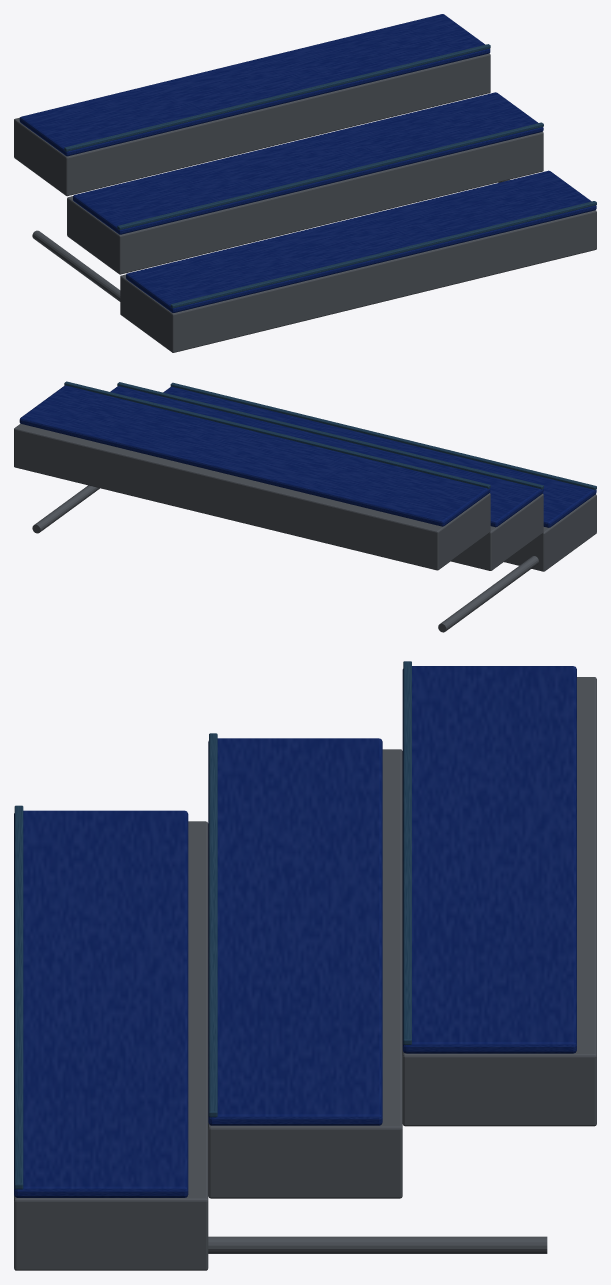
The model's file is gradas.fbx.
The picture shows the model from 3 angles, top to bottom: view 1: azimuth 30°, elevation 25°; view 2: azimuth 150°, elevation 25°; view 3: azimuth 270°, elevation 25°; orthographic projection. The views are drawn at different scales.
Visible parts, largest first — view 1: Gradas_Asiento_Nivel_3, Gradas_Asiento_Nivel_2, Gradas_Asiento_Nivel_1, Gradas_Estructura_Nivel_1, Gradas_Estructura_Nivel_2, Gradas_Estructura_Nivel_3, Gradas_Borde_Nivel_3, Gradas_Borde_Nivel_1, Gradas_Borde_Nivel_2, Gradas_Soporte_Lateral; view 2: Gradas_Estructura_Nivel_3, Gradas_Asiento_Nivel_3, Gradas_Asiento_Nivel_1, Gradas_Asiento_Nivel_2, Gradas_Estructura_Nivel_2, Gradas_Estructura_Nivel_1, Gradas_Borde_Nivel_1, Gradas_Borde_Nivel_2, Gradas_Borde_Nivel_3, Gradas_Soporte_Lateral, Gradas_Soporte_Lateral.001; view 3: Gradas_Asiento_Nivel_2, Gradas_Asiento_Nivel_3, Gradas_Asiento_Nivel_1, Gradas_Estructura_Nivel_2, Gradas_Estructura_Nivel_1, Gradas_Estructura_Nivel_3, Gradas_Soporte_Lateral.001, Gradas_Borde_Nivel_1, Gradas_Borde_Nivel_2, Gradas_Borde_Nivel_3.
Boxes of the visible parts, left/top/right/bottom form: Gradas_Asiento_Nivel_3: left=19, top=14, right=490, bottom=156; Gradas_Asiento_Nivel_2: left=73, top=92, right=543, bottom=234; Gradas_Asiento_Nivel_1: left=126, top=170, right=596, bottom=312; Gradas_Estructura_Nivel_1: left=120, top=210, right=596, bottom=352; Gradas_Estructura_Nivel_2: left=67, top=132, right=543, bottom=274; Gradas_Estructura_Nivel_3: left=14, top=53, right=490, bottom=196; Gradas_Borde_Nivel_3: left=64, top=44, right=490, bottom=151; Gradas_Borde_Nivel_1: left=170, top=201, right=596, bottom=308; Gradas_Borde_Nivel_2: left=117, top=122, right=543, bottom=229; Gradas_Soporte_Lateral: left=32, top=230, right=120, bottom=301; Gradas_Estructura_Nivel_3: left=14, top=423, right=490, bottom=570; Gradas_Asiento_Nivel_3: left=19, top=385, right=490, bottom=526; Gradas_Asiento_Nivel_1: left=163, top=386, right=596, bottom=527; Gradas_Asiento_Nivel_2: left=110, top=386, right=543, bottom=527; Gradas_Estructura_Nivel_2: left=451, top=493, right=543, bottom=570; Gradas_Estructura_Nivel_1: left=504, top=494, right=596, bottom=571; Gradas_Borde_Nivel_1: left=170, top=382, right=596, bottom=490; Gradas_Borde_Nivel_2: left=117, top=382, right=543, bottom=489; Gradas_Borde_Nivel_3: left=64, top=381, right=490, bottom=488; Gradas_Soporte_Lateral: left=438, top=556, right=538, bottom=632; Gradas_Soporte_Lateral.001: left=32, top=485, right=99, bottom=533; Gradas_Asiento_Nivel_2: left=208, top=738, right=382, bottom=1125; Gradas_Asiento_Nivel_3: left=402, top=666, right=576, bottom=1053; Gradas_Asiento_Nivel_1: left=14, top=810, right=188, bottom=1197; Gradas_Estructura_Nivel_2: left=208, top=749, right=402, bottom=1198; Gradas_Estructura_Nivel_1: left=14, top=821, right=208, bottom=1270; Gradas_Estructura_Nivel_3: left=402, top=677, right=596, bottom=1126; Gradas_Soporte_Lateral.001: left=208, top=1236, right=547, bottom=1253; Gradas_Borde_Nivel_1: left=14, top=805, right=23, bottom=1189; Gradas_Borde_Nivel_2: left=209, top=733, right=217, bottom=1117; Gradas_Borde_Nivel_3: left=403, top=661, right=411, bottom=1044.
Size of the model in its own units: 360 by 103 by 234.
